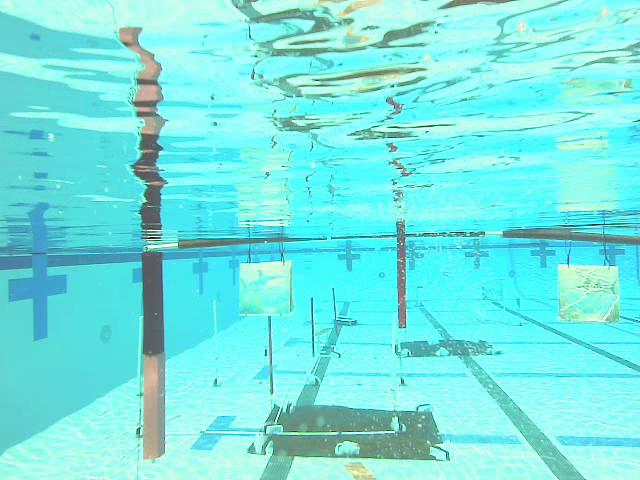black_poster: (333, 288, 339, 336)
divider: (398, 237, 405, 327)
left_gate_poster: (142, 251, 164, 459)
shark: (240, 261, 293, 315)
swordfish: (559, 264, 618, 319)
white_poster: (136, 318, 142, 436), (212, 301, 217, 385)
